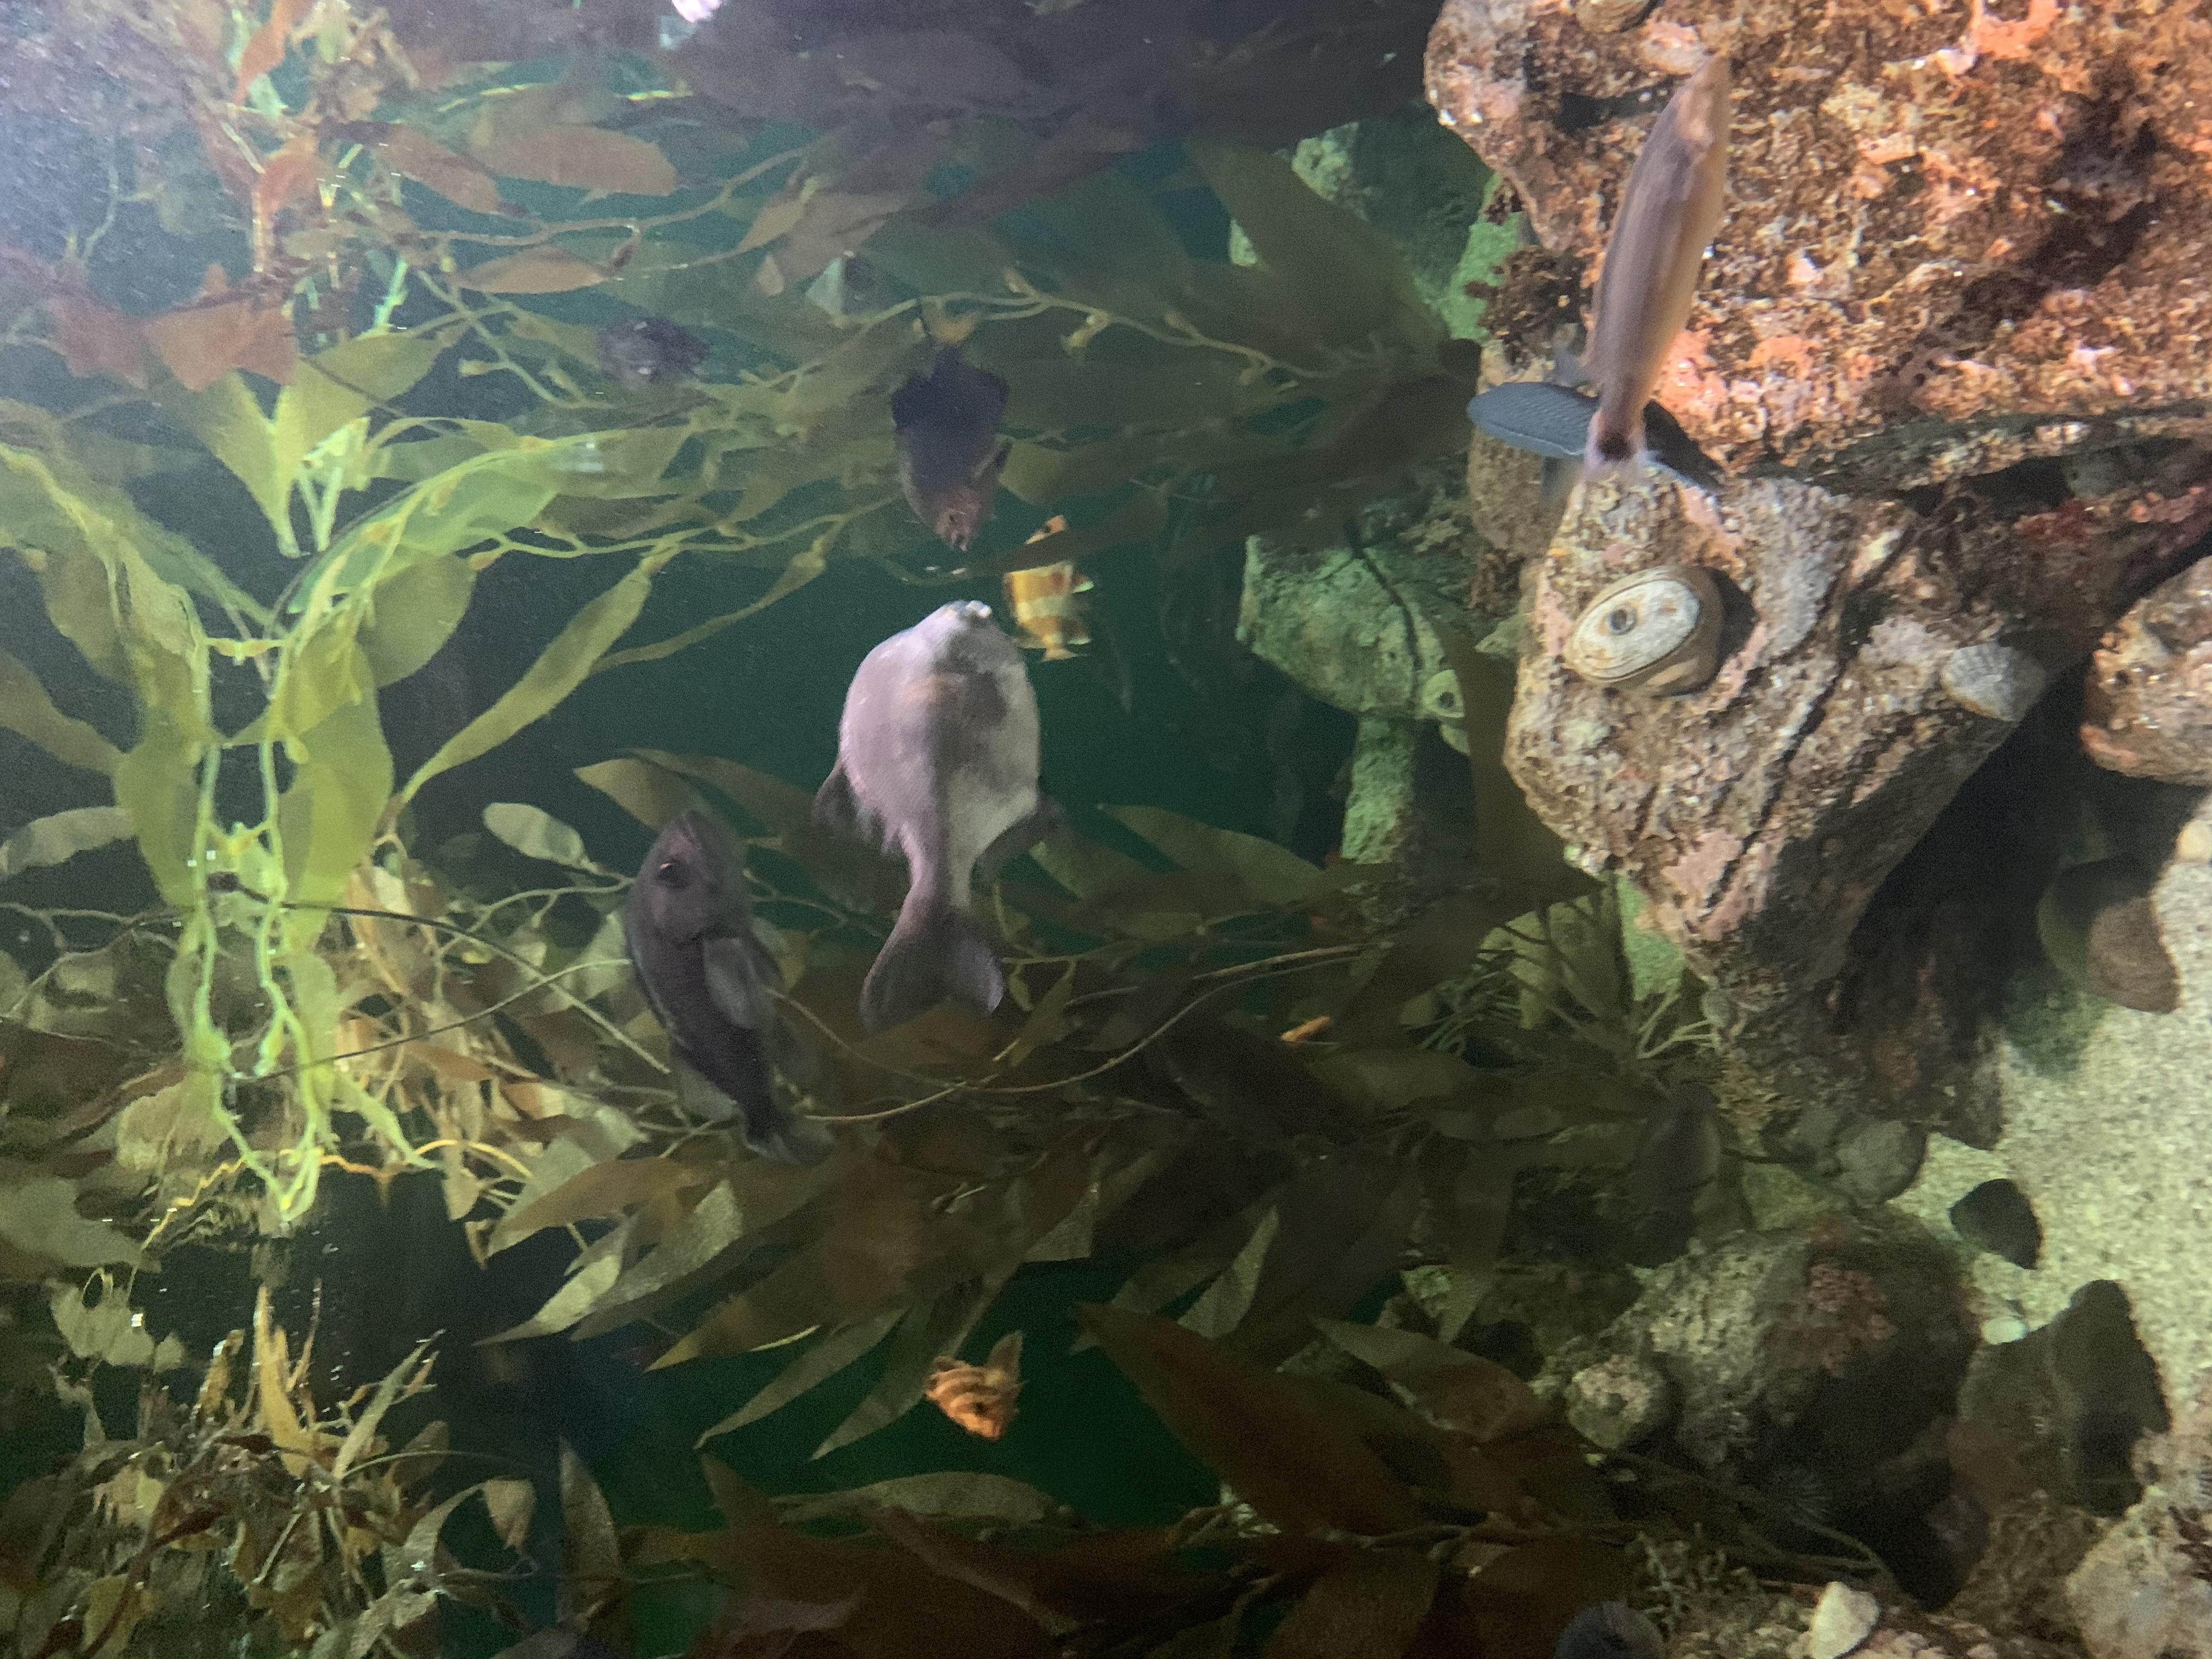fish: (808, 589, 1050, 1032), (622, 802, 833, 1176), (1585, 37, 1740, 481), (887, 286, 1026, 565), (1453, 373, 1667, 486), (996, 497, 1094, 674), (921, 1324, 1036, 1455), (589, 301, 709, 411)
